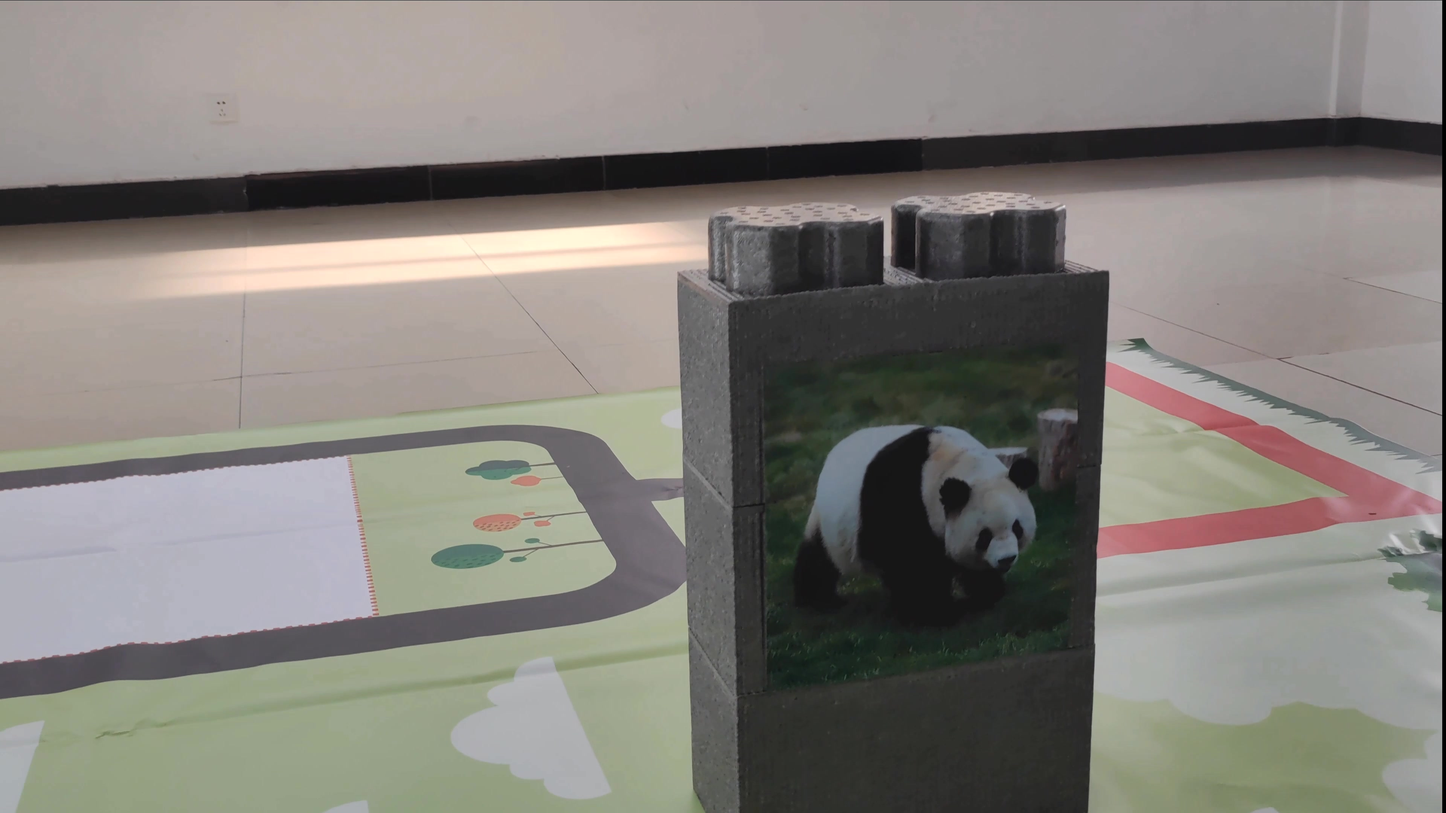panda: (761, 398, 1048, 655)
